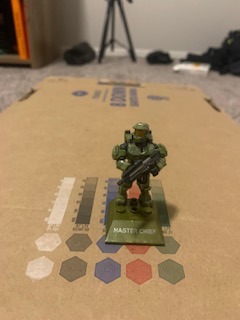soldier: (109, 120, 169, 220)
